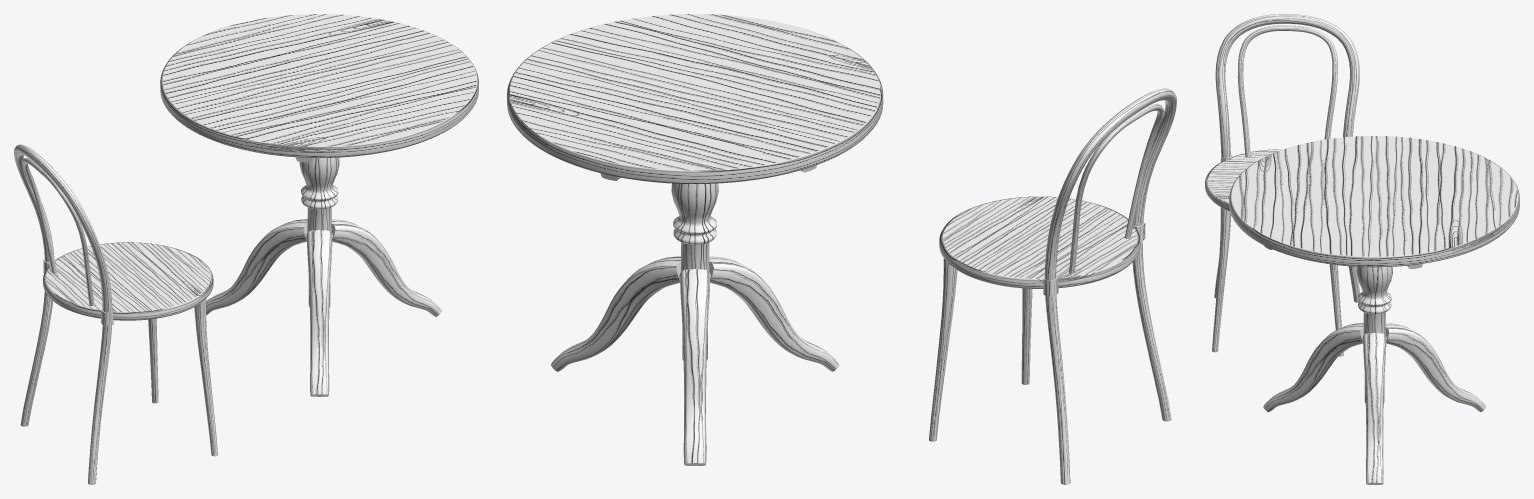
Rendered from chair-table.meshopt.glb.
3 views of the same model, side by side, from view 1: azimuth 30°, elevation 25°; view 2: azimuth 150°, elevation 25°; view 3: azimuth 270°, elevation 25° (orthographic). The views are drawn at different scales.
Visible parts, largest first — view 1: Tabletop, Chair_seat, Continuous_rear_legs_and_outer_backrest, Table_foot_3, Table_foot_1, Table_foot_2, Turned_pedestal, Inner_backrest_bow, Chair_front_leg_1, Chair_front_leg_2; view 2: Tabletop, Chair_seat, Continuous_rear_legs_and_outer_backrest, Table_foot_2, Table_foot_1, Table_foot_3, Turned_pedestal, Inner_backrest_bow, Chair_front_leg_2, Chair_front_leg_1; view 3: Tabletop, Continuous_rear_legs_and_outer_backrest, Table_foot_1, Table_foot_2, Table_foot_3, Turned_pedestal, Inner_backrest_bow, Chair_seat, Chair_front_leg_1, Chair_front_leg_2.
Boxes of the visible parts, box(x1,y1,x2,y2) form: Tabletop: box(160, 14, 478, 157); Chair_seat: box(43, 242, 213, 320); Continuous_rear_legs_and_outer_backrest: box(14, 144, 112, 484); Table_foot_3: box(307, 230, 332, 396); Table_foot_1: box(331, 219, 441, 316); Table_foot_2: box(206, 219, 307, 315); Turned_pedestal: box(299, 157, 339, 307); Inner_backrest_bow: box(22, 158, 94, 305); Chair_front_leg_1: box(194, 299, 217, 456); Chair_front_leg_2: box(148, 318, 158, 403); Tabletop: box(507, 14, 883, 183); Chair_seat: box(939, 196, 1140, 288); Continuous_rear_legs_and_outer_backrest: box(1044, 88, 1176, 484); Table_foot_2: box(680, 269, 710, 465); Table_foot_1: box(551, 256, 680, 371); Table_foot_3: box(709, 256, 839, 371); Turned_pedestal: box(671, 183, 718, 360); Inner_backrest_bow: box(1068, 104, 1163, 273); Chair_front_leg_2: box(929, 258, 957, 441); Chair_front_leg_1: box(1021, 288, 1032, 384); Tabletop: box(1229, 136, 1519, 267); Continuous_rear_legs_and_outer_backrest: box(1214, 14, 1359, 302); Table_foot_1: box(1363, 333, 1386, 484); Table_foot_2: box(1385, 323, 1485, 411); Table_foot_3: box(1263, 323, 1363, 411); Turned_pedestal: box(1356, 266, 1392, 403); Inner_backrest_bow: box(1237, 25, 1337, 157); Chair_seat: box(1205, 149, 1283, 211); Chair_front_leg_1: box(1212, 207, 1231, 352); Chair_front_leg_2: box(1329, 264, 1343, 356).
Bounding box in the file's own units: 1.4 × 0.8614 × 0.891.
Materials: 1 (1 with a texture image).
